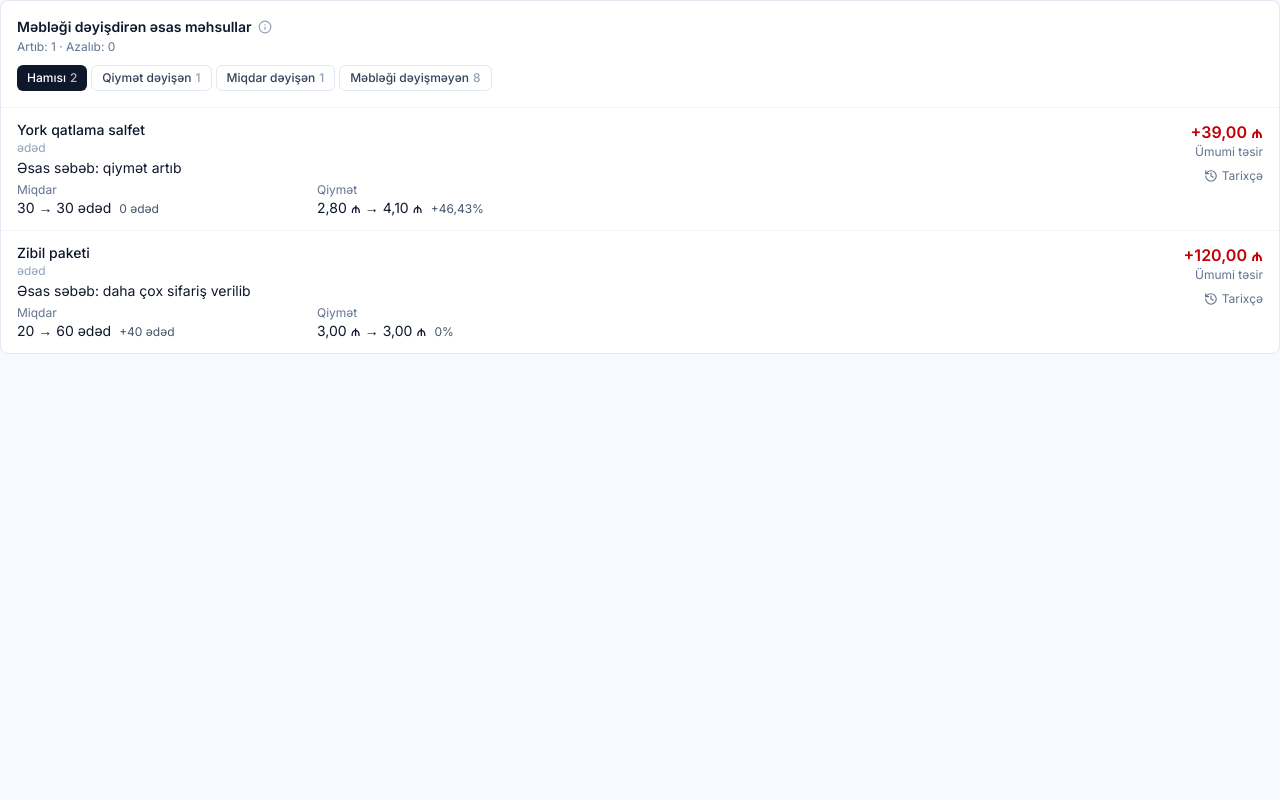
Test case: the products whose money did not move › show six and offer the rest, like every chip
The image size is (1280, 800).
Click the button "Məbləği dəyişməyən8".
click(415, 78)  # box [339,65,492,91]
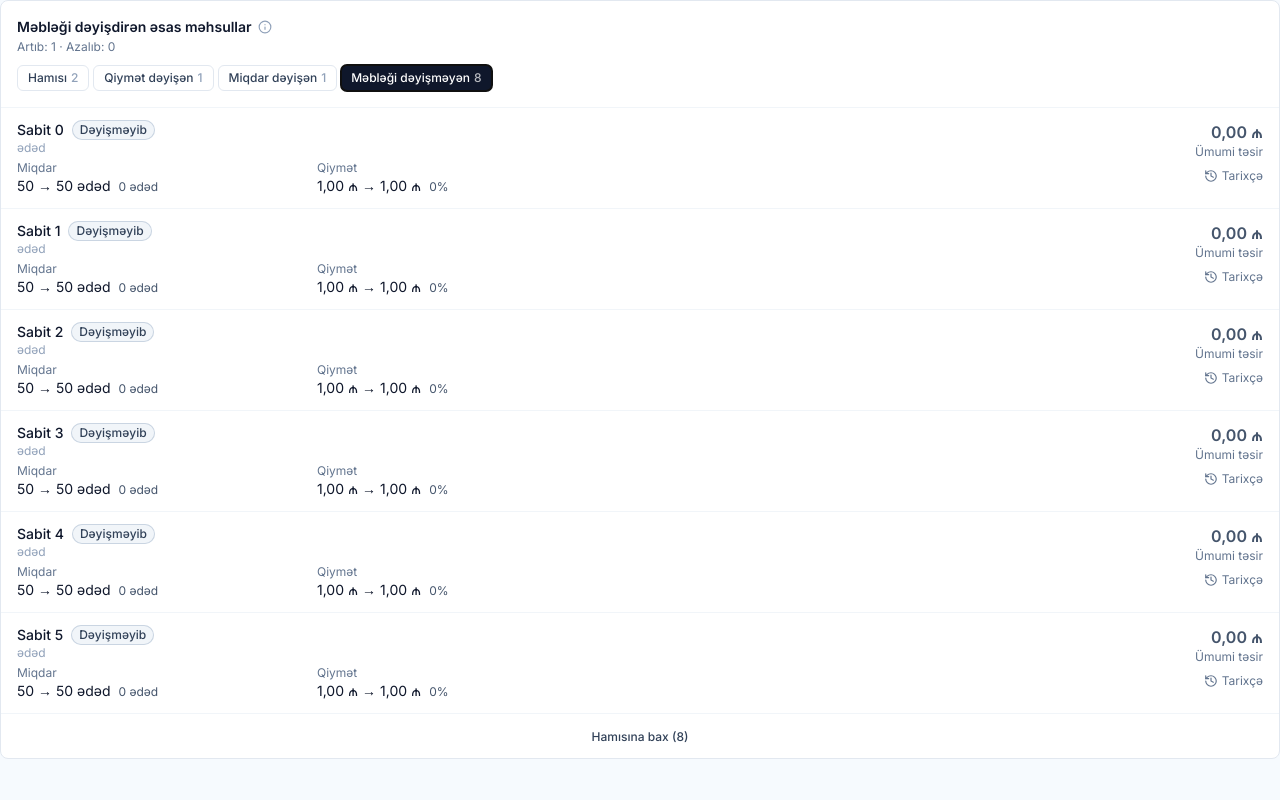
expect the number of list items is 6: met, box [1,108,1279,209]; [1,209,1279,310]; [1,310,1279,411]; [1,411,1279,512]; [1,512,1279,613]; [1,613,1279,713]
expect the button "Hamısına bax (8)" is shown: met, box [592,729,688,745]
